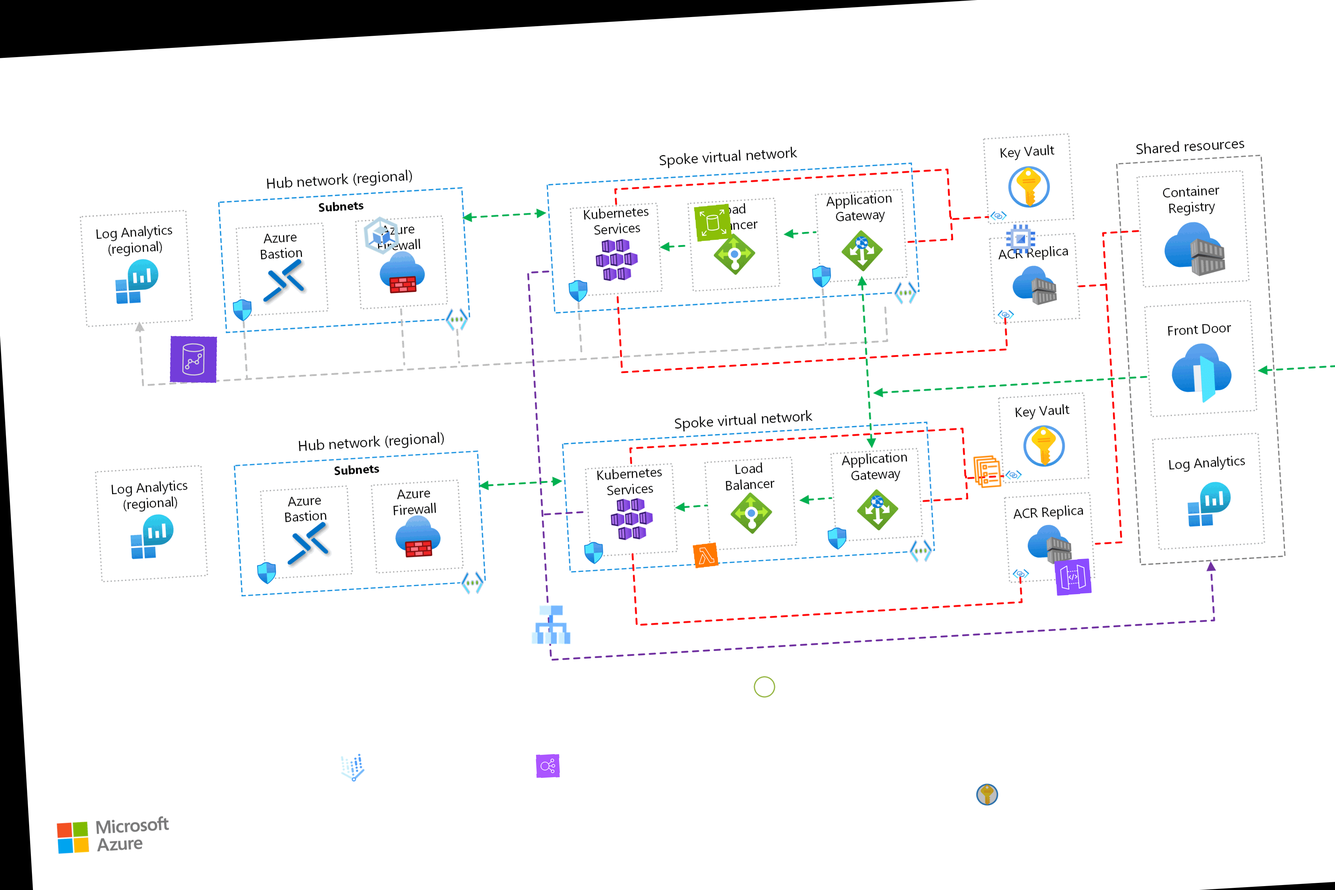aws_amazon_api_gateway: (1054, 558, 1092, 596)
aws_amazon_elastic_block_store: (694, 204, 732, 242)
aws_amazon_redshift: (167, 333, 220, 386)
aws_elastic_container_service_service: (969, 453, 1006, 490)
aws_elastic_load_balancing: (535, 753, 560, 778)
aws_lambda: (693, 542, 718, 568)
aws_simple_storage_service_object: (751, 673, 778, 700)
azure_key_vaults: (974, 781, 1000, 807)
gcp_cloud_load_balancing: (525, 599, 577, 650)
gcp_compute_engine: (1001, 220, 1040, 258)
gcp_google_kubernetes_engine: (356, 210, 407, 261)
gcp_vertex_ai: (332, 748, 372, 788)
